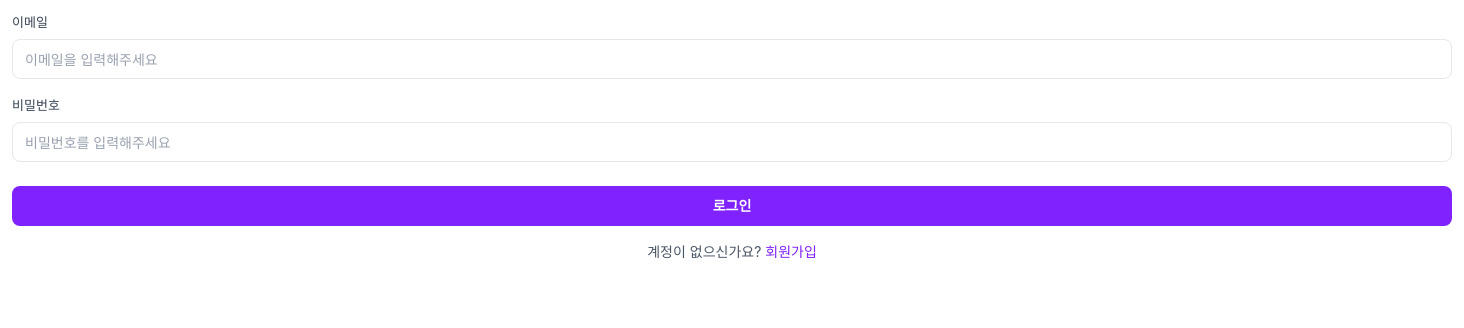
it: LoginForm › 비밀번호 미입력 후 폼 제출 시 에러 메시지가 표시된다
Click the button "로그인" at (732, 206), box [12, 186, 1452, 226]
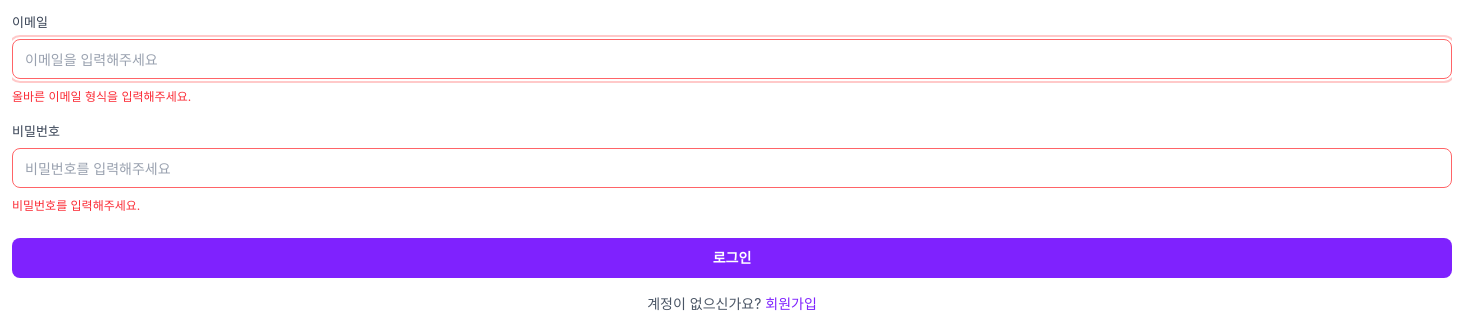
Expected: the text "비밀번호를 입력해주세요." is shown, [12, 198, 140, 213]
